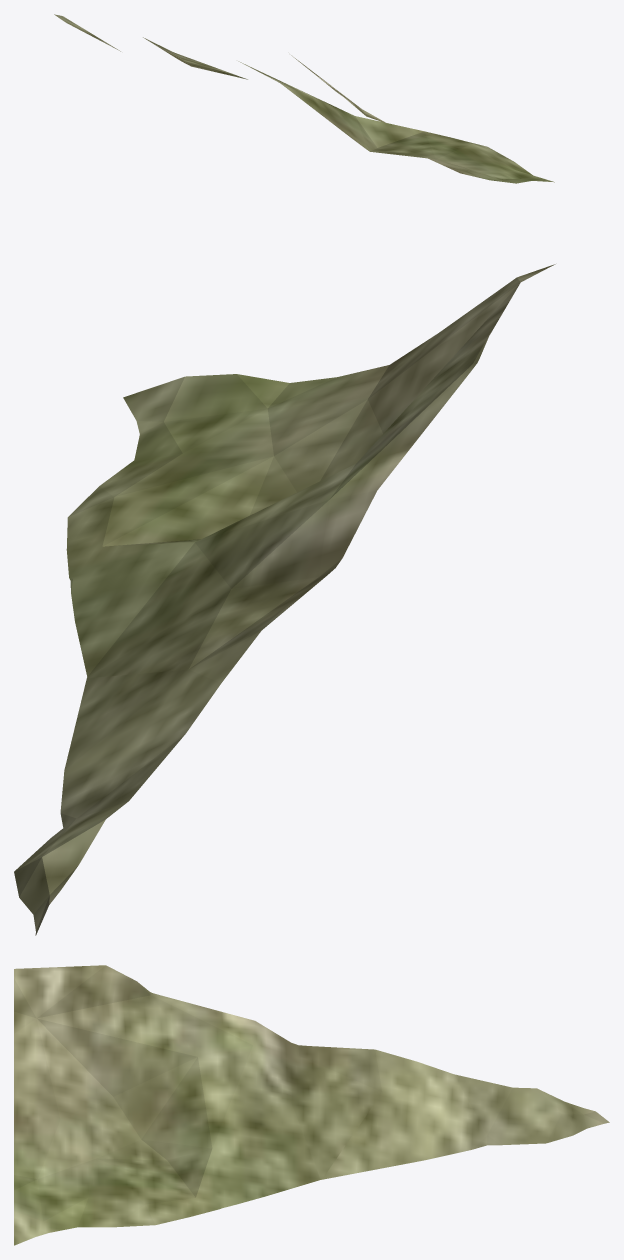
The picture shows the model from 3 angles, top to bottom: view 1: azimuth 30°, elevation 25°; view 2: azimuth 150°, elevation 25°; view 3: azimuth 270°, elevation 25°; orthographic projection. The views are drawn at different scales.
Bounding box in the file's own units: 1.18 × 0.7036 × 2.42.
Materials: 1 (1 with a texture image).
